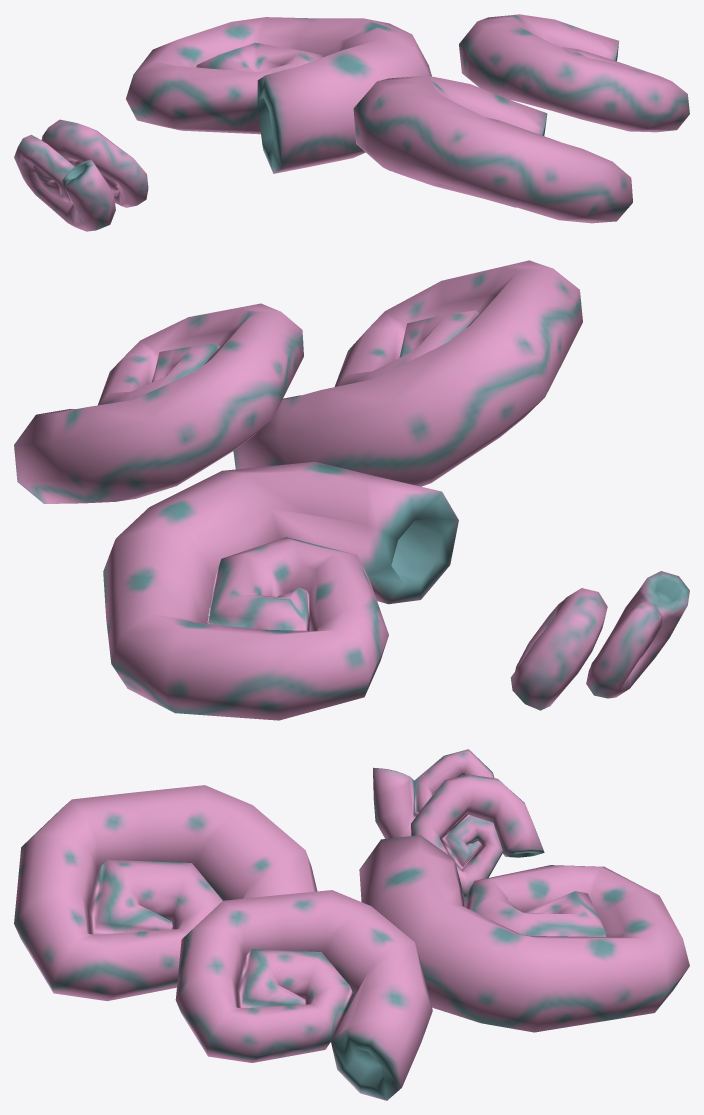
File: shells.fbx
The picture shows the model from 3 angles, top to bottom: view 1: azimuth 30°, elevation 25°; view 2: azimuth 150°, elevation 25°; view 3: azimuth 270°, elevation 25°; orthographic projection. The views are drawn at different scales.
Visible parts, largest first — view 1: sea shell.005, sea shell.001, sea shell.002, sea shell.003, sea shell.004; view 2: sea shell.005, sea shell.001, sea shell.002, sea shell.003, sea shell.004; view 3: sea shell.005, sea shell.001, sea shell.002, sea shell.004, sea shell.003.
Part boxes in pixels (left/top/right/bottom): sea shell.005: left=126, top=17, right=431, bottom=173; sea shell.001: left=353, top=75, right=632, bottom=223; sea shell.002: left=459, top=14, right=689, bottom=132; sea shell.003: left=14, top=134, right=115, bottom=231; sea shell.004: left=41, top=119, right=148, bottom=207; sea shell.005: left=103, top=461, right=458, bottom=720; sea shell.001: left=233, top=260, right=582, bottom=486; sea shell.002: left=14, top=303, right=303, bottom=503; sea shell.003: left=586, top=571, right=689, bottom=698; sea shell.004: left=510, top=588, right=607, bottom=710; sea shell.005: left=359, top=835, right=689, bottom=1032; sea shell.001: left=14, top=785, right=317, bottom=1001; sea shell.002: left=175, top=890, right=432, bottom=1100; sea shell.004: left=411, top=774, right=544, bottom=897; sea shell.003: left=373, top=749, right=494, bottom=838.
Size of the model in its own units: 17.94 by 5.3 by 17.61.
